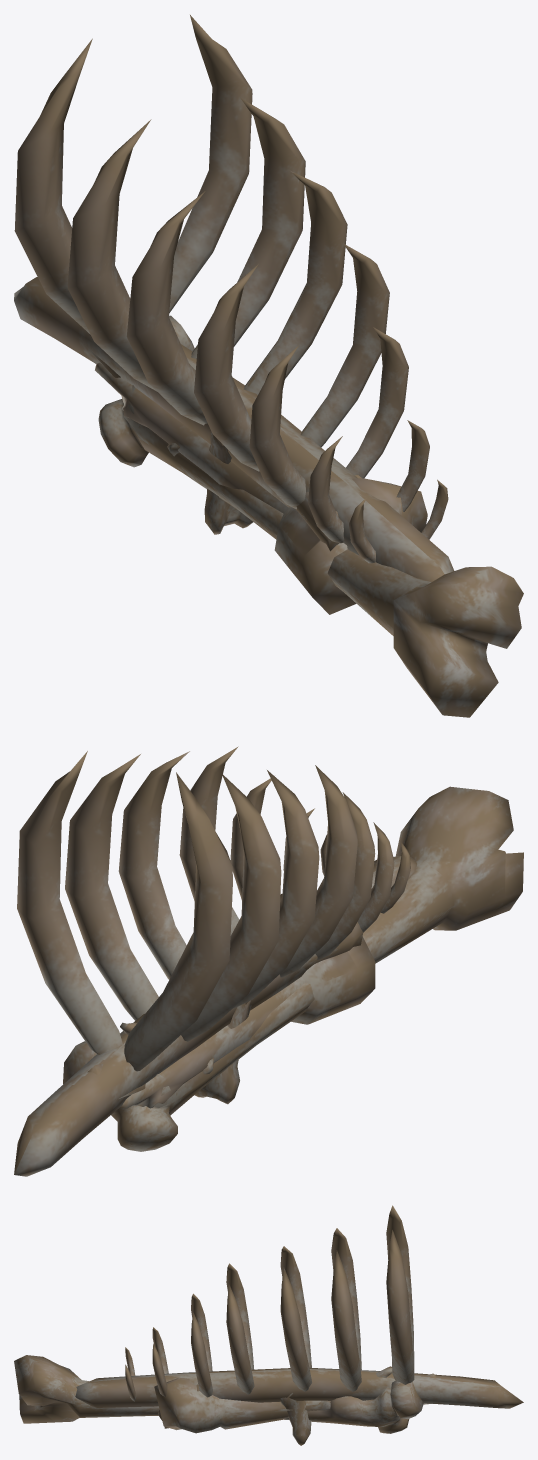
Rendered from Ossos.fbx.
3 views of the same model, one above another, from view 1: azimuth 30°, elevation 25°; view 2: azimuth 150°, elevation 25°; view 3: azimuth 270°, elevation 25° (orthographic). The views are drawn at different scales.
Visible parts, largest first — view 1: Osso4, Osso5, Osso6, Osso7; view 2: Osso4, Osso5, Osso6, Osso7, Osso3; view 3: Osso4, Osso5, Osso6, Osso7.
Part boxes in pixels (x1=…): Osso4: x1=14, y1=15, x2=454, y2=581; Osso5: x1=98, y1=315, x2=523, y2=717; Osso6: x1=95, y1=362, x2=427, y2=614; Osso7: x1=204, y1=432, x2=253, y2=534; Osso4: x1=14, y1=746, x2=416, y2=1176; Osso5: x1=63, y1=786, x2=523, y2=1151; Osso6: x1=119, y1=893, x2=375, y2=1108; Osso7: x1=194, y1=1000, x2=251, y2=1104; Osso3: x1=120, y1=922, x2=362, y2=1034; Osso4: x1=75, y1=1205, x2=523, y2=1408; Osso5: x1=14, y1=1355, x2=423, y2=1433; Osso6: x1=154, y1=1378, x2=320, y2=1433; Osso7: x1=280, y1=1393, x2=311, y2=1445.
Bounding box in the file's own units: 23.64 × 42.18 × 86.76.
